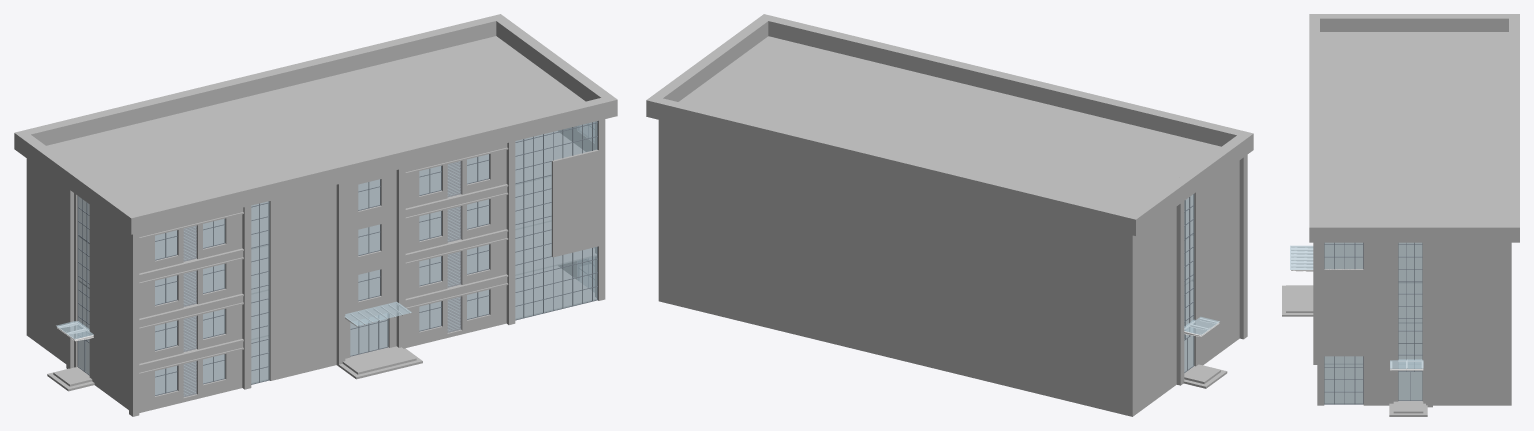
Rendered from lou04.fbx.
3 views of the same model, side by side, from view 1: azimuth 30°, elevation 25°; view 2: azimuth 150°, elevation 25°; view 3: azimuth 270°, elevation 25° (orthographic). The views are drawn at different scales.
Parts seen in each view (by area): view 1: Obj3d66-1371392-7327-338; view 2: Obj3d66-1371392-7327-338; view 3: Obj3d66-1371392-7327-338.
Boxes of the visible parts, x1,y1,x2,y2 form: Obj3d66-1371392-7327-338: [14, 14, 617, 416]; Obj3d66-1371392-7327-338: [646, 14, 1253, 416]; Obj3d66-1371392-7327-338: [1282, 14, 1519, 416].
Bounding box in the file's own units: 4000 × 1470 × 1750.
